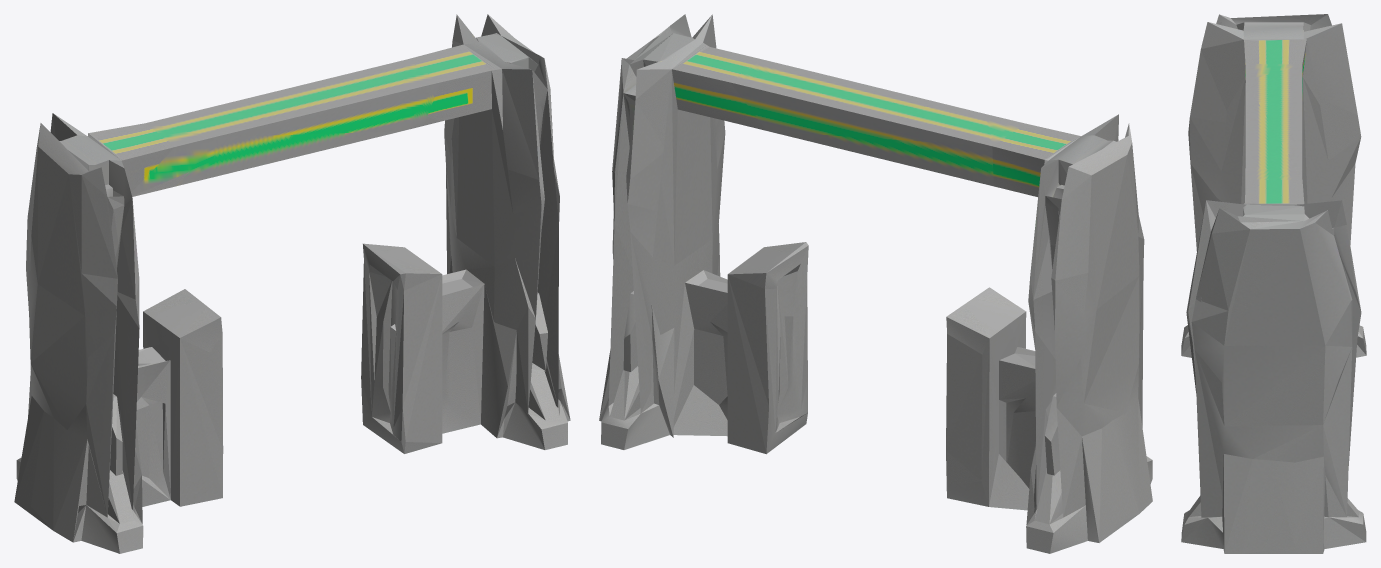
File: finish_gate_chrome.glb
3 renders of one model, left to right at view 1: azimuth 30°, elevation 25°; view 2: azimuth 150°, elevation 25°; view 3: azimuth 270°, elevation 25°, orthographic. The views are drawn at different scales.
Bounding box in the file's own units: 1.9 × 1.35 × 0.6779.
Materials: 1 (1 with a texture image).
